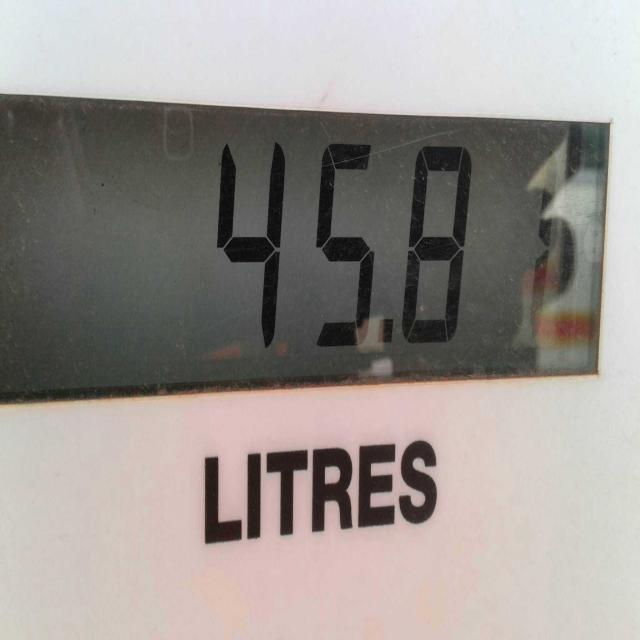.: (374, 306, 395, 349)
4: (214, 132, 286, 370)
5: (318, 142, 377, 350)
8: (398, 130, 488, 358)
